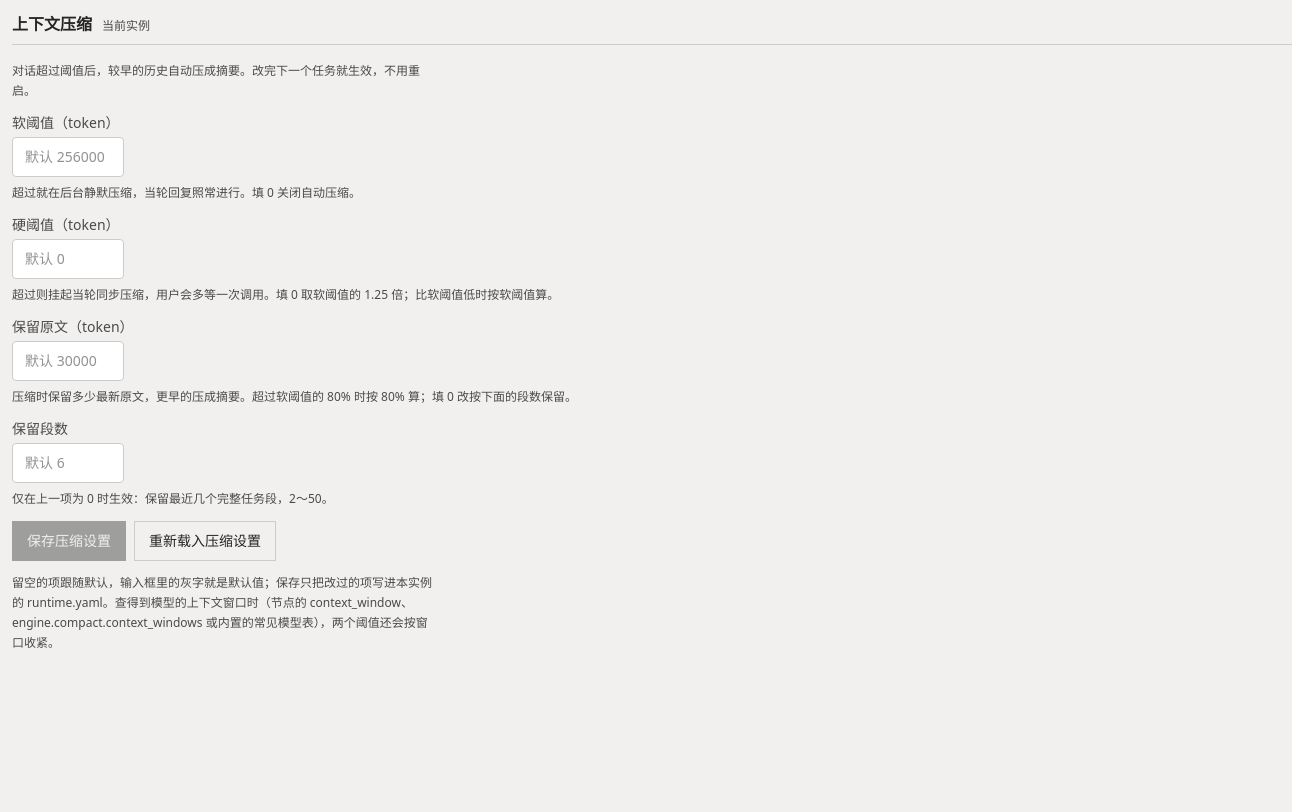
Test case: 读进来的样子 › 本实例没写的项留空，灰字是默认值；只改一项只落那一个键
The width and height of the screenshot is (1292, 812).
Expected: the button "保存压缩设置" is disabled, [12, 521, 126, 561]
Type "120000" into the field labelled "软阈值（token）" at (68, 157), box [12, 137, 124, 177]
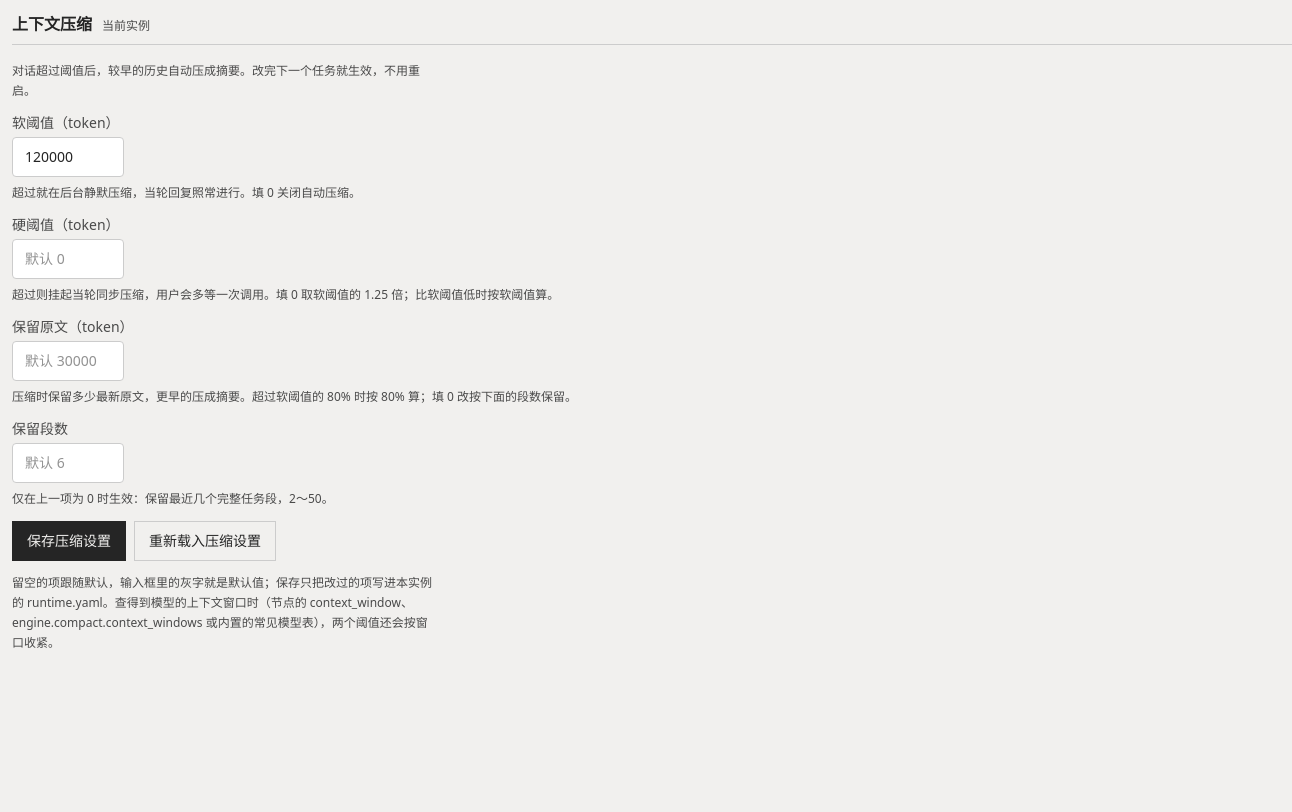
Click the button "保存压缩设置" at (69, 541), box [12, 521, 126, 561]
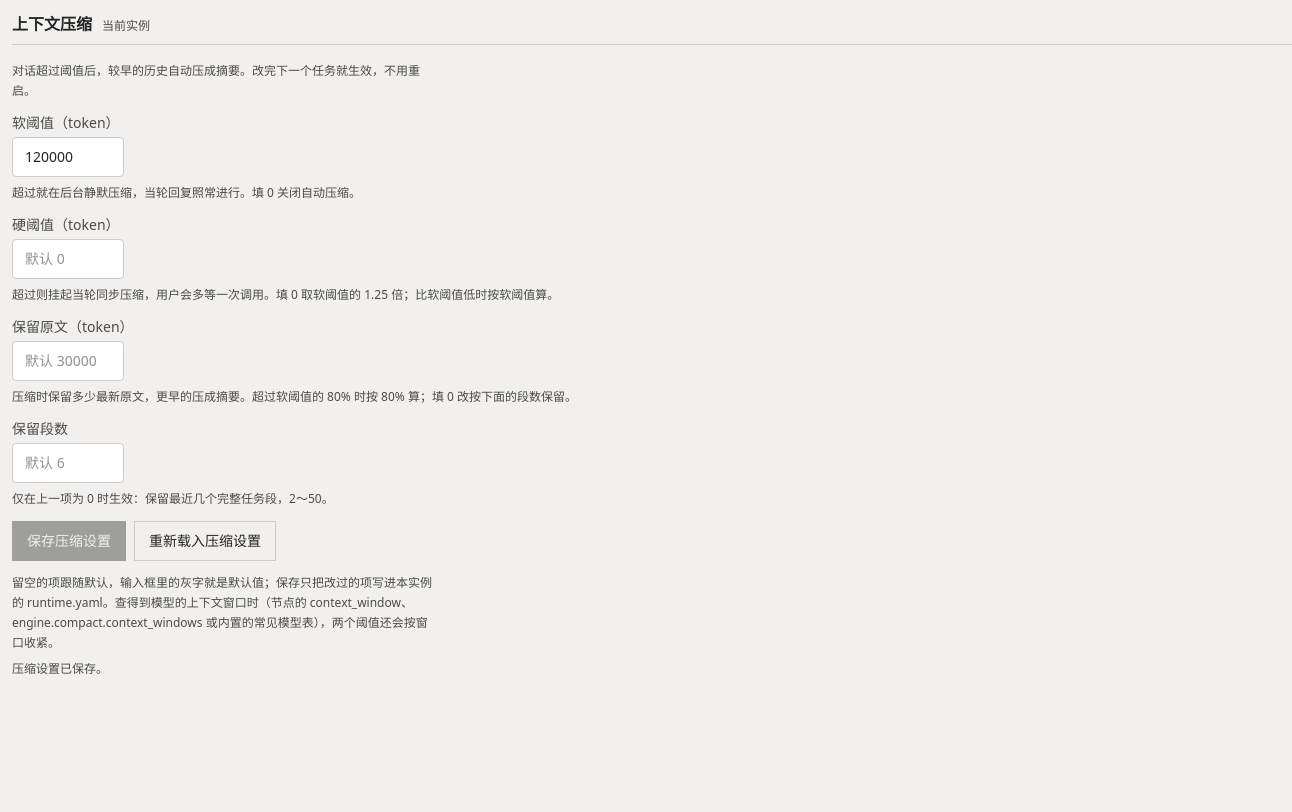
Expected: the text "压缩设置已保存。" is shown, [12, 660, 108, 677]
Expected: the button "保存压缩设置" is disabled, [12, 521, 126, 561]
